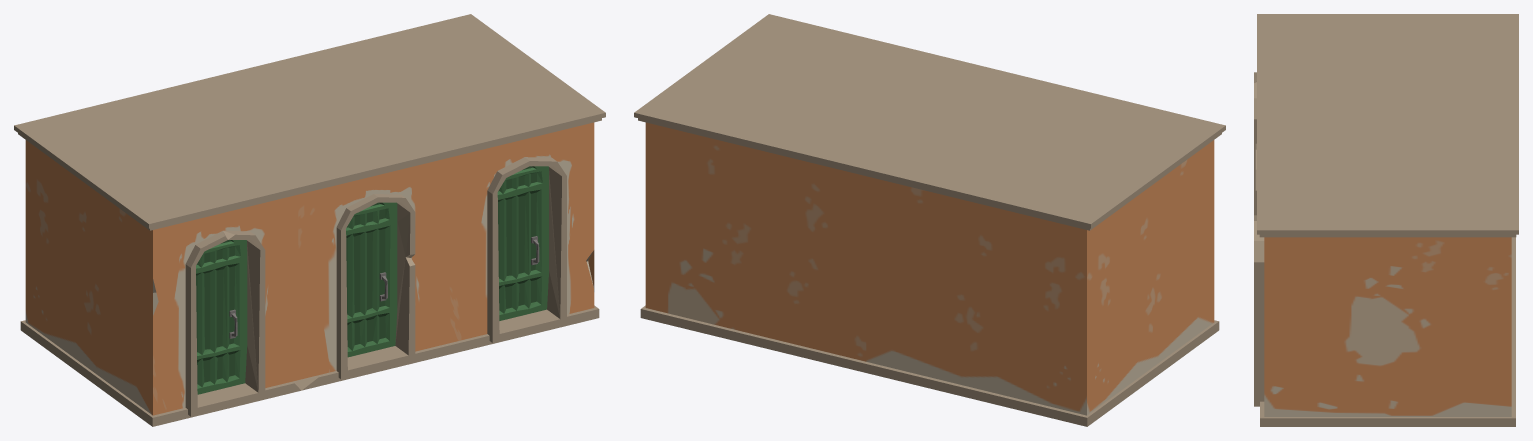
The model's file is SM_Bld_Cuba_Room_Long_04.glb.
3 renders of one model, left to right at view 1: azimuth 30°, elevation 25°; view 2: azimuth 150°, elevation 25°; view 3: azimuth 270°, elevation 25°, orthographic. The views are drawn at different scales.
Visible parts, largest first — view 1: SM_Bld_Cuba_Room_Long_04_part00; view 2: SM_Bld_Cuba_Room_Long_04_part00; view 3: SM_Bld_Cuba_Room_Long_04_part00.
Boxes of the visible parts, x1,y1,x2,y2 form: SM_Bld_Cuba_Room_Long_04_part00: (14, 14, 605, 426); SM_Bld_Cuba_Room_Long_04_part00: (634, 14, 1225, 426); SM_Bld_Cuba_Room_Long_04_part00: (1254, 14, 1518, 426).
Bounding box in the file's own units: 7.76 × 3.33 × 4.02.
Materials: 1 (1 with a texture image).
